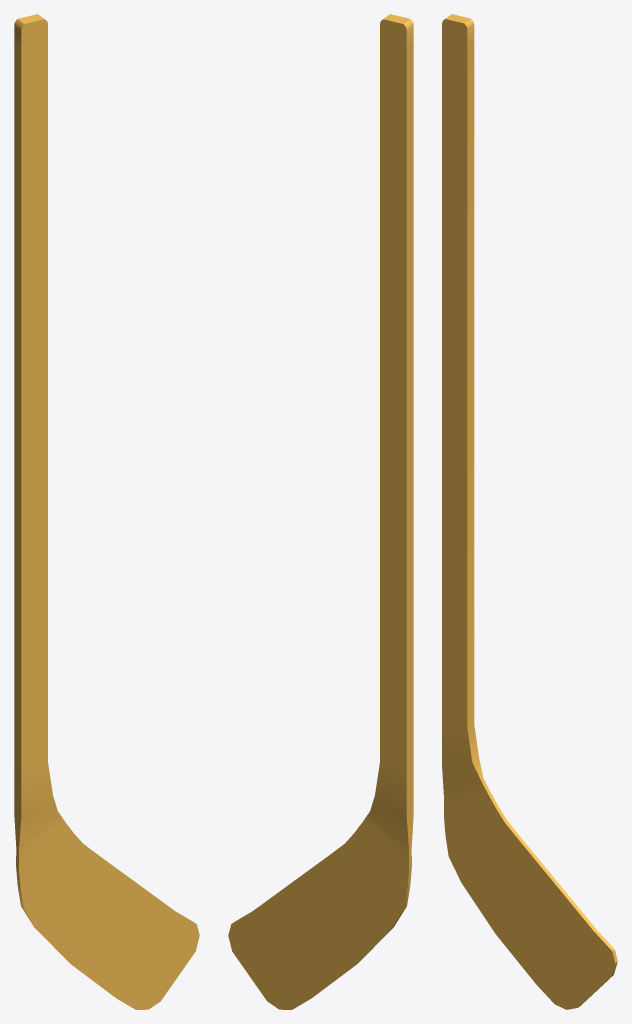
Rendered from Hockey Stick Gold.fbx.
3 renders of one model, left to right at view 1: azimuth 30°, elevation 25°; view 2: azimuth 150°, elevation 25°; view 3: azimuth 330°, elevation 25°, orthographic. The views are drawn at different scales.
Parts seen in each view (by area): view 1: Hockey Stick Gold; view 2: Hockey Stick Gold; view 3: Hockey Stick Gold.
Part boxes in pixels (<box>): Hockey Stick Gold: <box>14,14,199,1009</box>; Hockey Stick Gold: <box>228,14,413,1009</box>; Hockey Stick Gold: <box>442,14,617,1009</box>.
Size of the model in its own units: 0.3741 by 2.01 by 0.0254.
